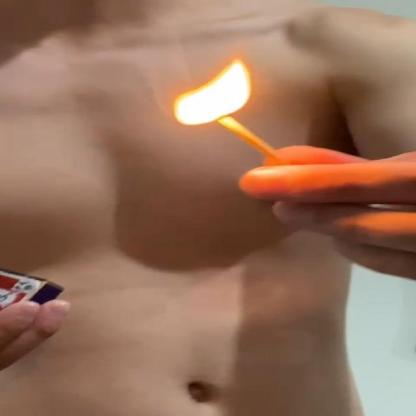fire: (163, 47, 255, 134)
